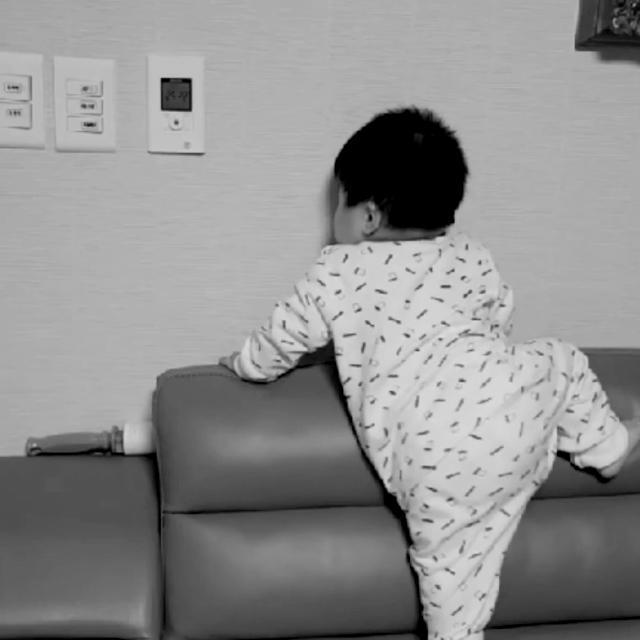child: (234, 108, 640, 640)
